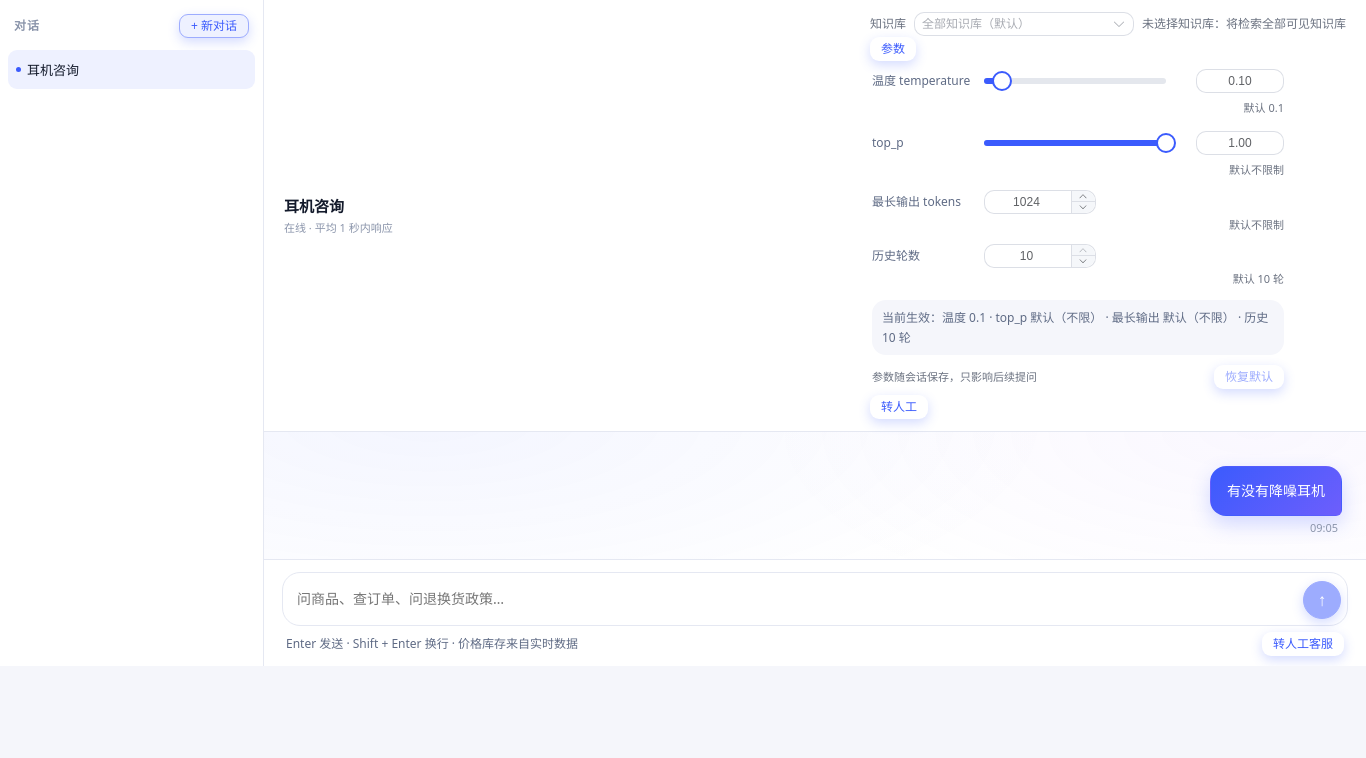
Test: ChatView 集成 › 完整流式对话：工具状态 -> 增量文本 -> done，最终以服务端历史为准
Type "有没有降噪耳机" into the text box with placeholder "问商品、查订单、问退换货政策…" at (795, 599), box 297,579 -> 1293,619
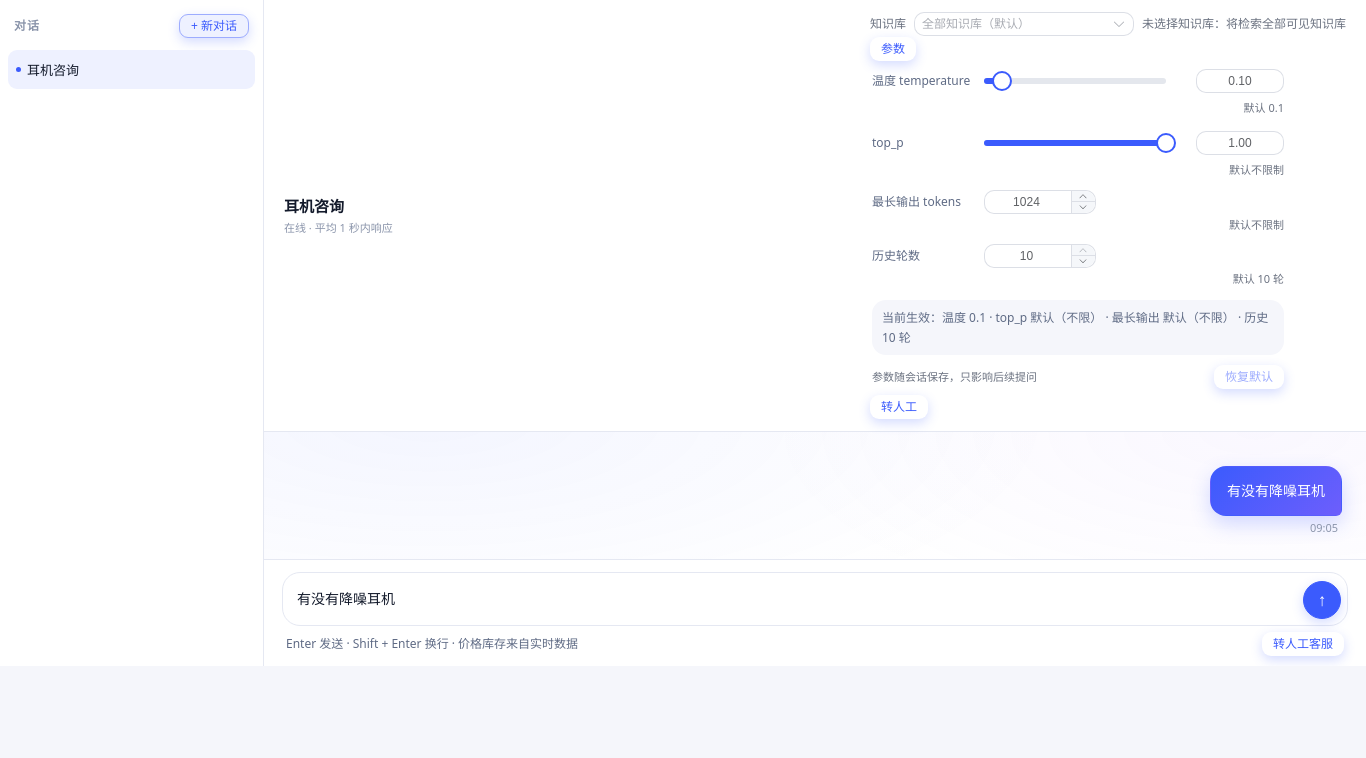
Press Enter in the text box named "消息输入框", box 297,579 -> 1293,619
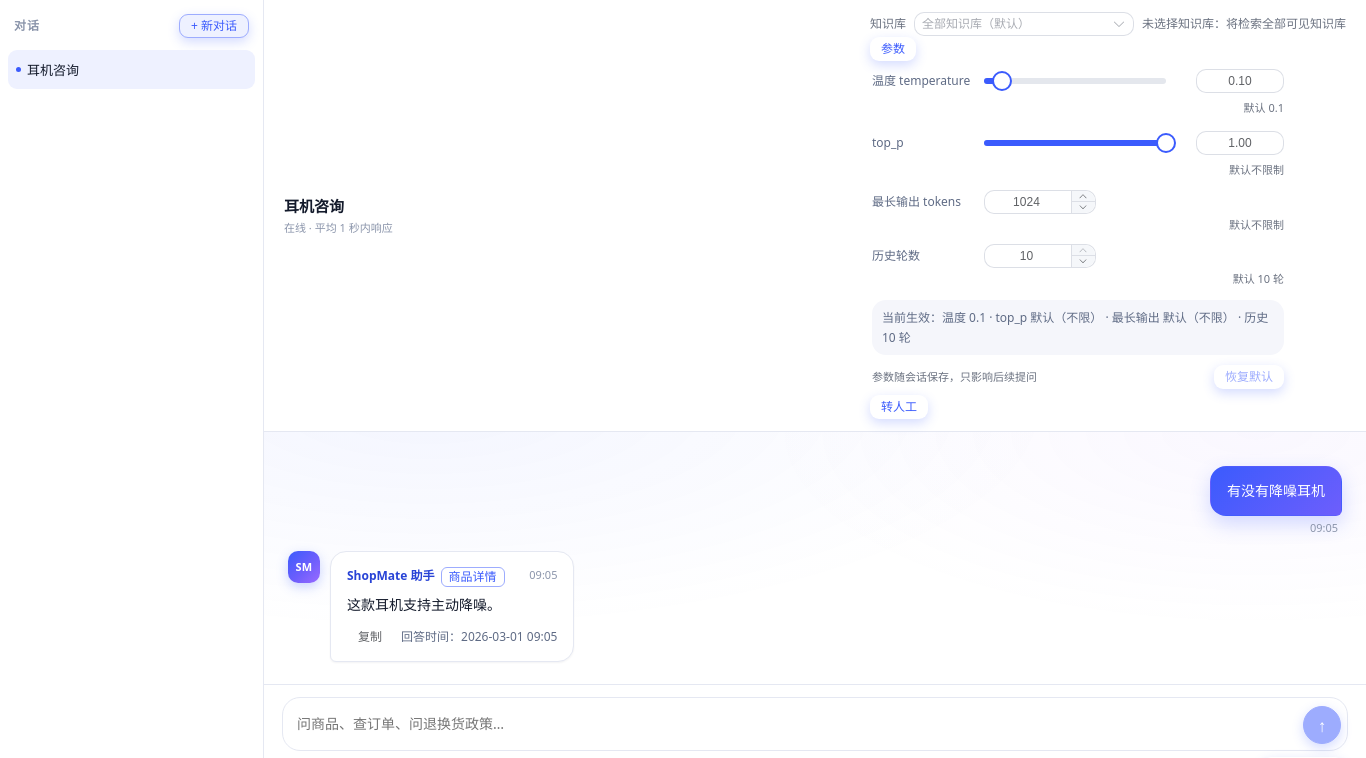
Expected: the text "有没有降噪耳机" is shown, 1227,479 -> 1325,503
Expected: the text "这款耳机支持主动降噪。" is shown, 347,595 -> 501,614
Expected: the text "商品详情" is shown, 448,571 -> 496,583
